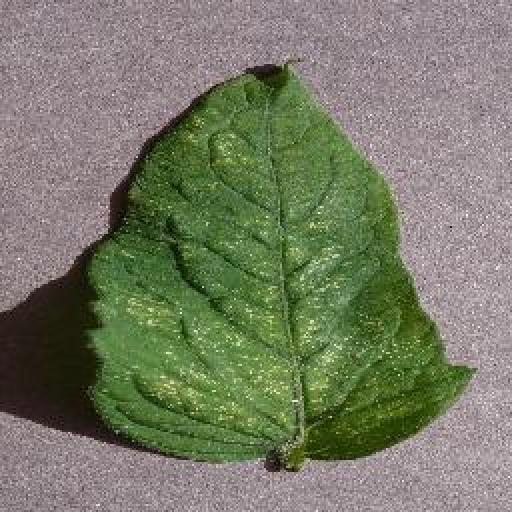Spider Mites: (88, 58, 475, 466)
